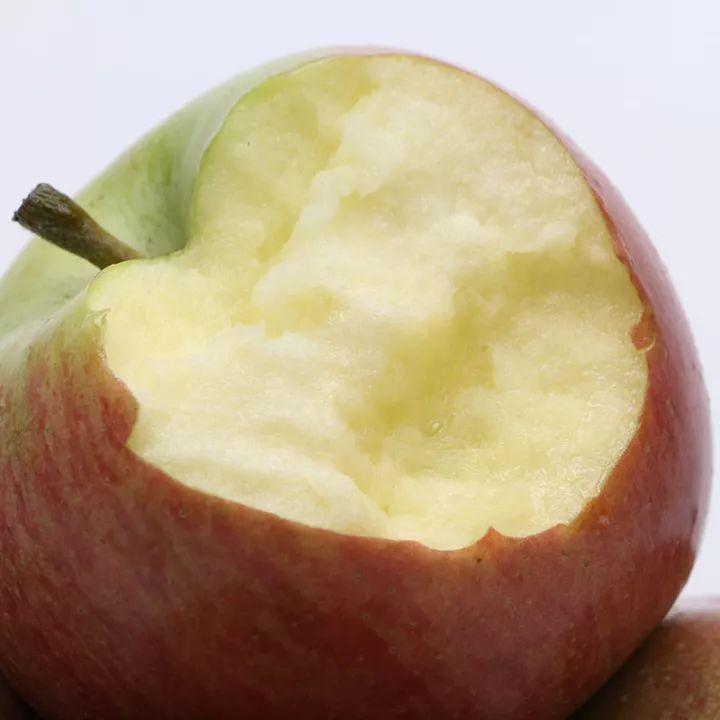apple: (1, 45, 716, 720)
